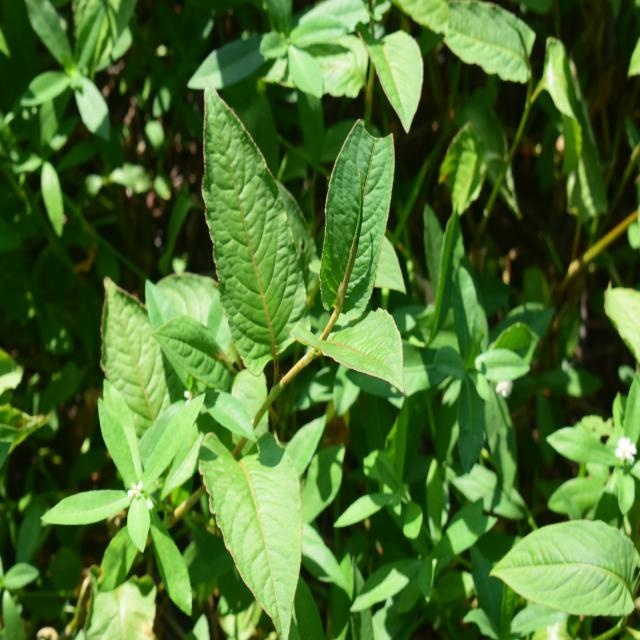Chinese_knotweed: (182, 71, 408, 612)
